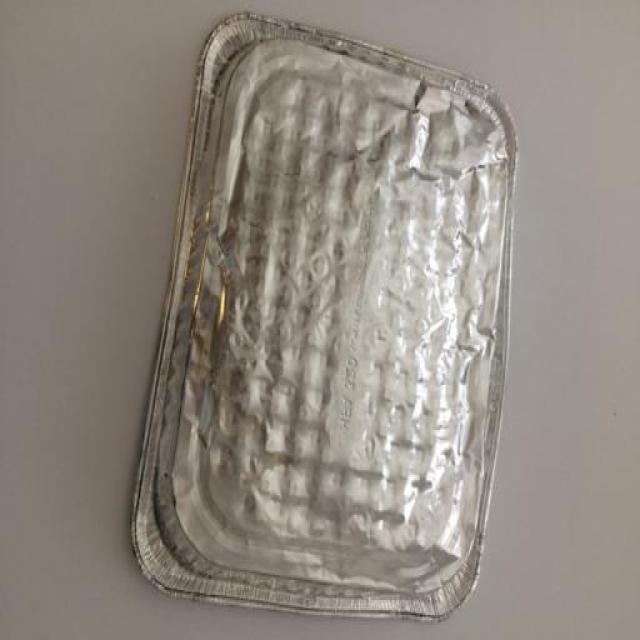Metal: (128, 10, 520, 625)
